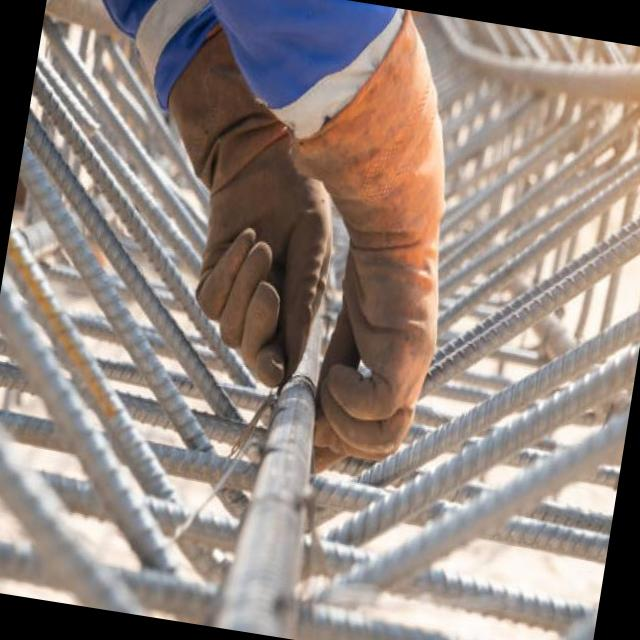Gloves: (113, 0, 489, 487)
